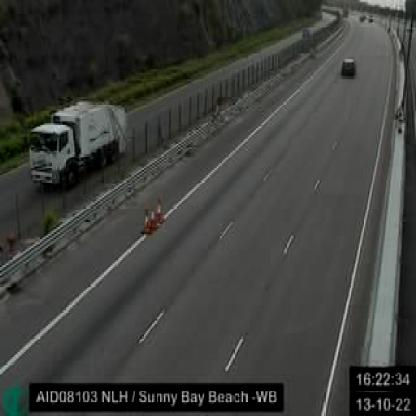Car: (340, 57, 357, 79)
Truck: (30, 99, 127, 189)
